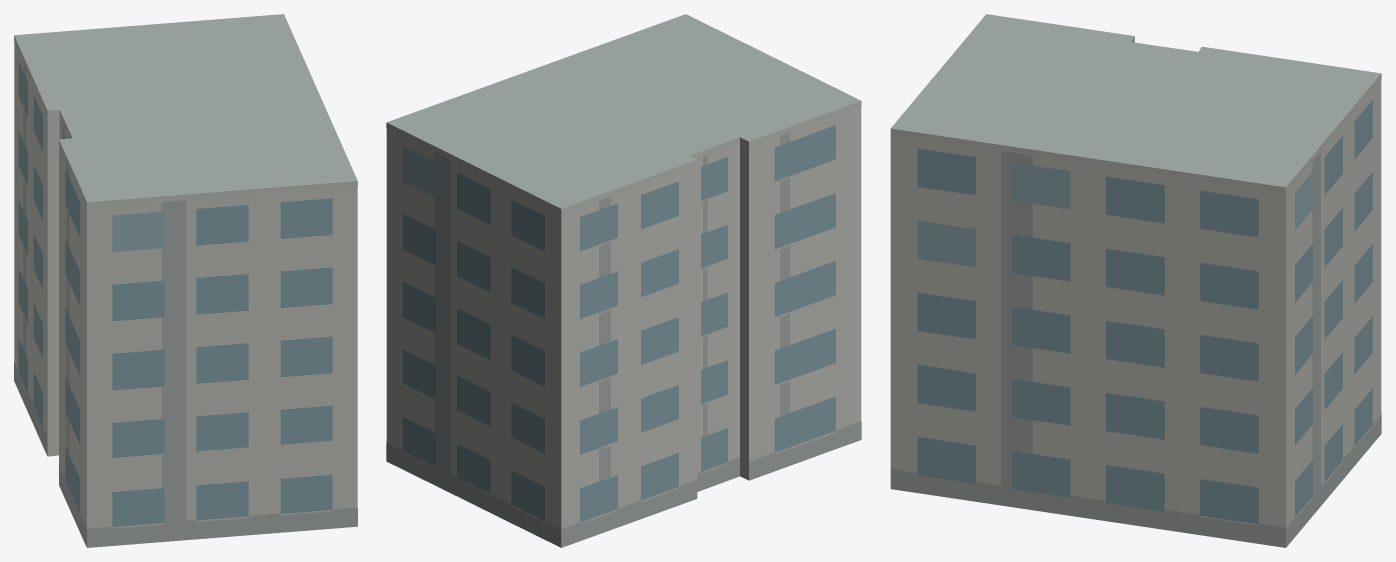
The model's file is survey-upis-32886680.glb.
3 views of the same model, side by side, from view 1: azimuth 30°, elevation 25°; view 2: azimuth 150°, elevation 25°; view 3: azimuth 270°, elevation 25° (orthographic). The views are drawn at different scales.
Parts seen in each view (by area): view 1: survey-upis-32886680.tmp; view 2: survey-upis-32886680.tmp; view 3: survey-upis-32886680.tmp.
Part boxes in pixels (x1,y1,x2,y2): survey-upis-32886680.tmp: (14, 14, 357, 547); survey-upis-32886680.tmp: (386, 14, 861, 547); survey-upis-32886680.tmp: (890, 14, 1381, 547).
Bounding box in the file's own units: 14.81 × 14.35 × 17.72.
